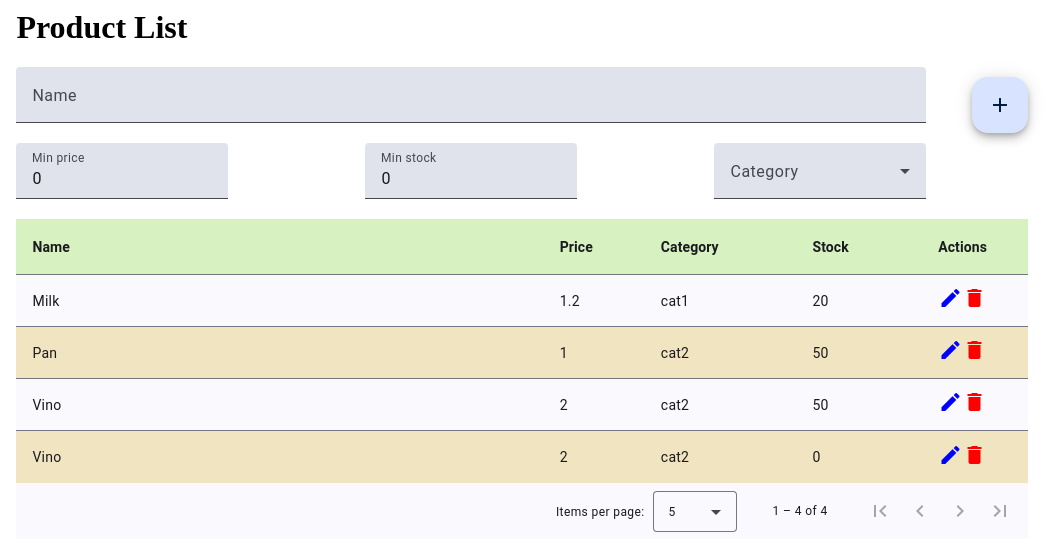
Test: template spec › Filter by price
Type "2" into the number field with id "filter_price".
click(122, 179); type("2")  # box [32, 167, 212, 191]
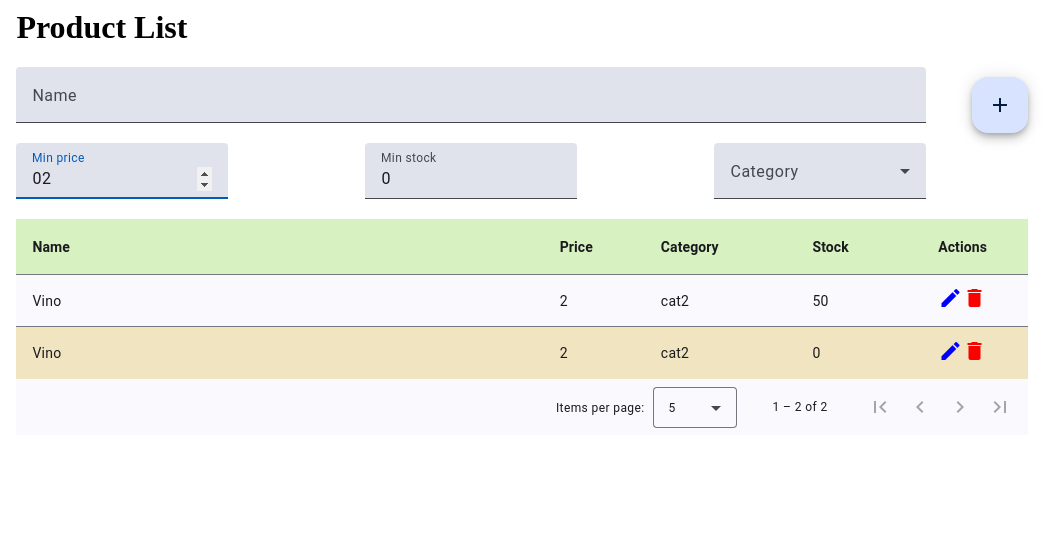
expect the text "Vino" in the row of "50" is shown: met, box [32, 293, 61, 309]
expect the text "Milk" is gone: met
